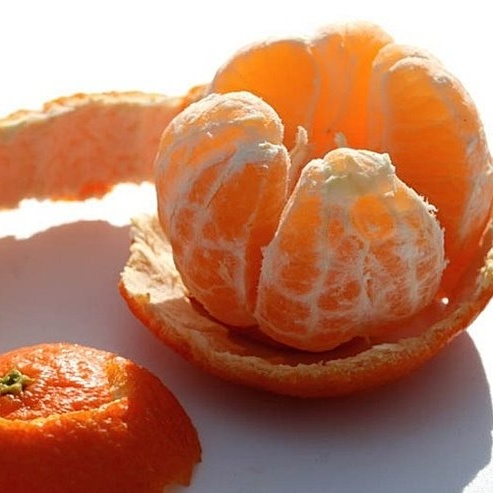mandarin: (152, 31, 492, 351), (1, 347, 204, 490)
